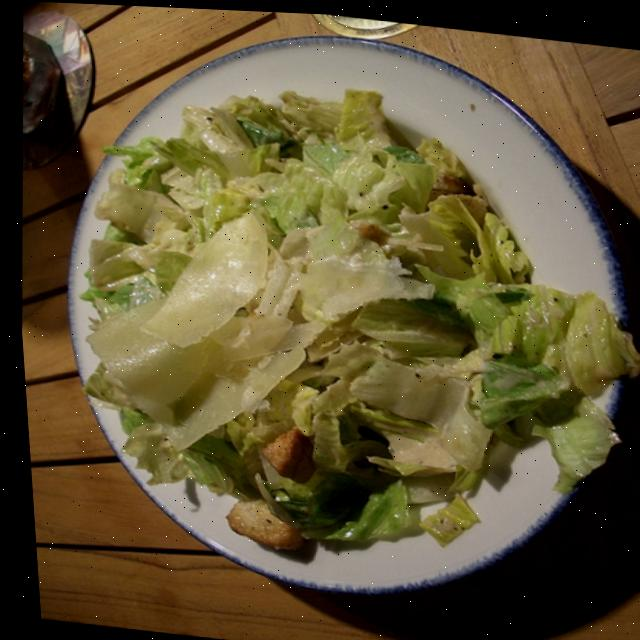蔬菜料理: (8, 14, 640, 614)
